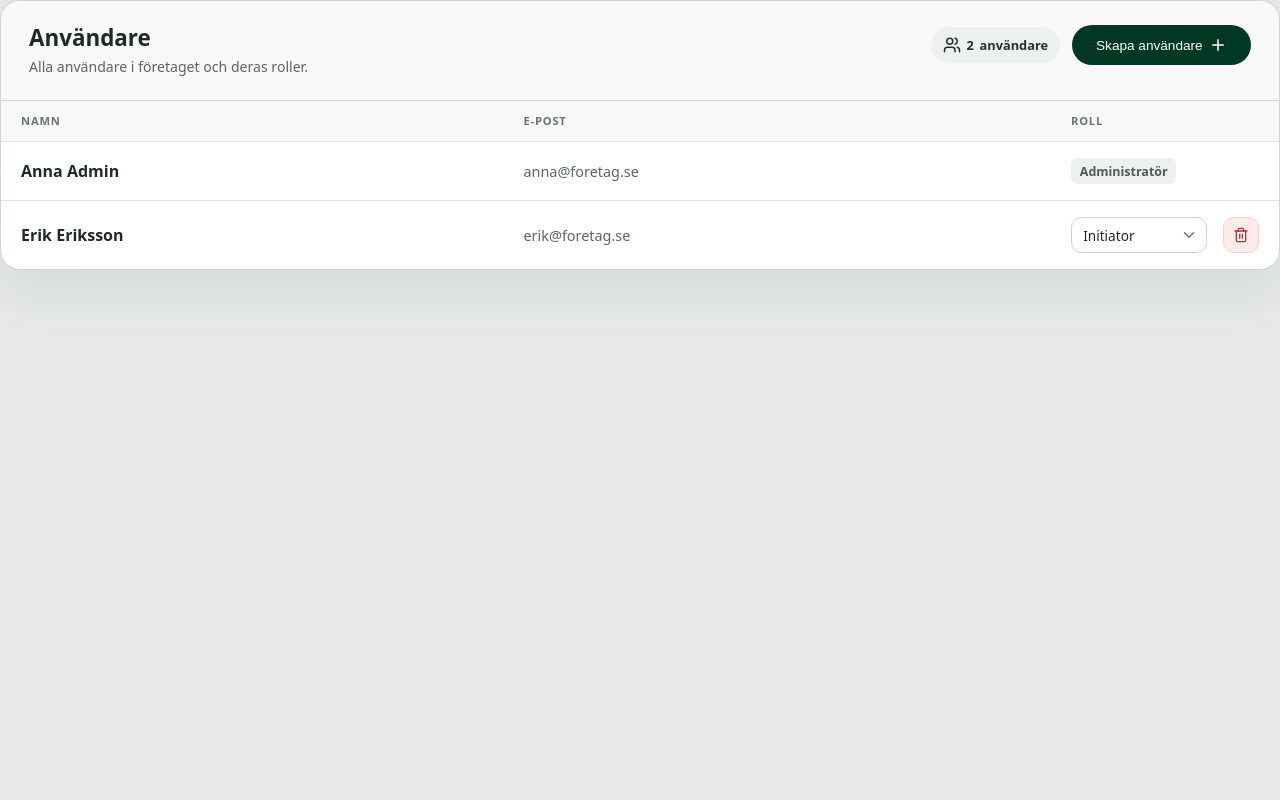
Test: UserList › deleting › keeps the modal open and shows the error when deleting fails
The width and height of the screenshot is (1280, 800).
Click the button named "Ta bort Erik Eriksson". click: (1241, 235)
box: [1223, 217, 1259, 253]
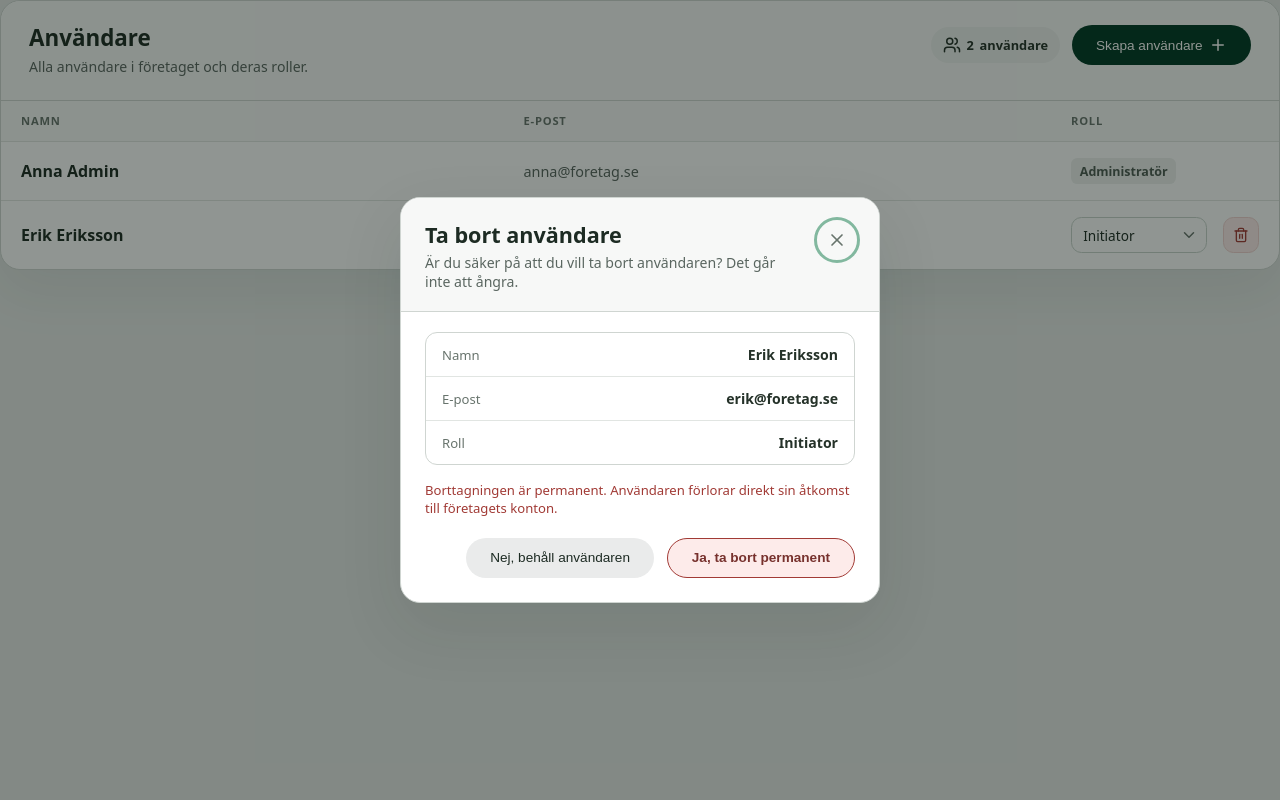
Click the button "Ja, ta bort permanent". click: (761, 558)
box: [667, 538, 855, 578]
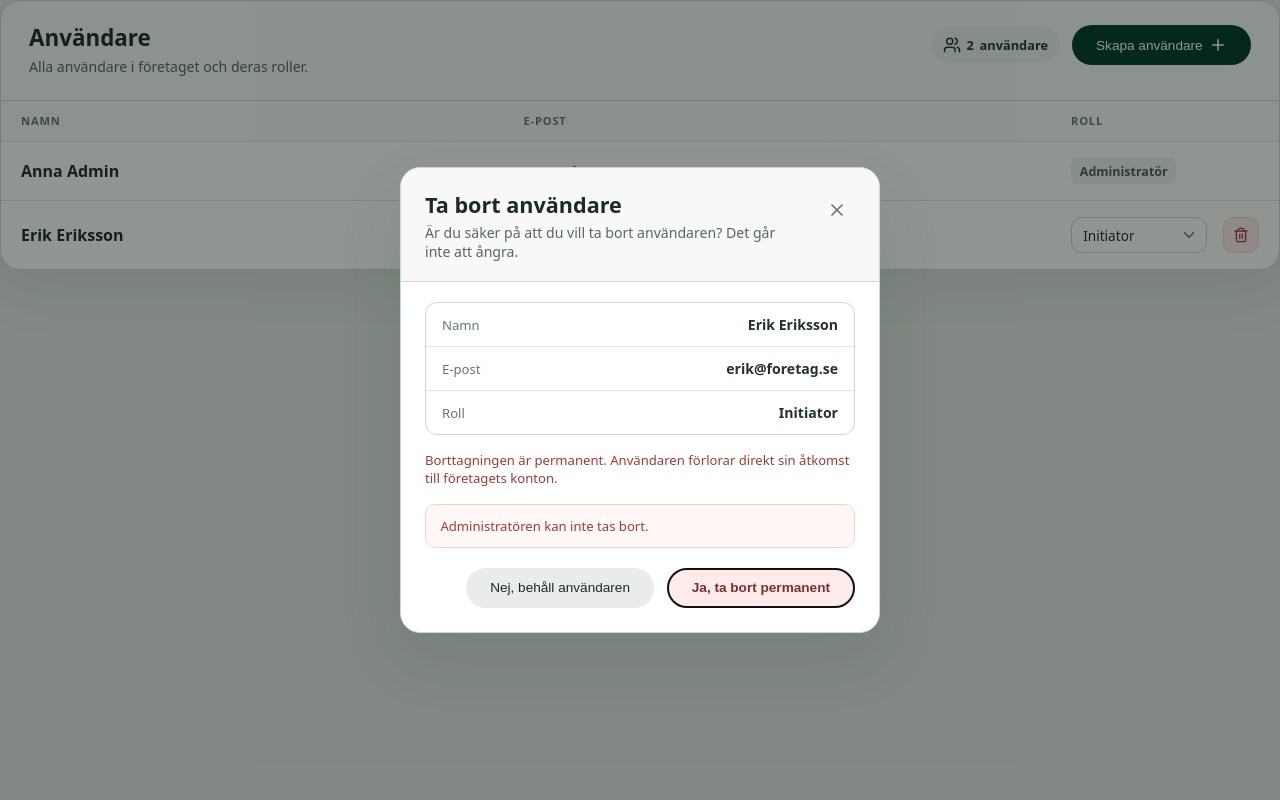
Result: the dialog is shown at [400, 167, 880, 633]
Result: the message reads "Administratören kan inte tas bort." at [440, 516, 648, 534]
